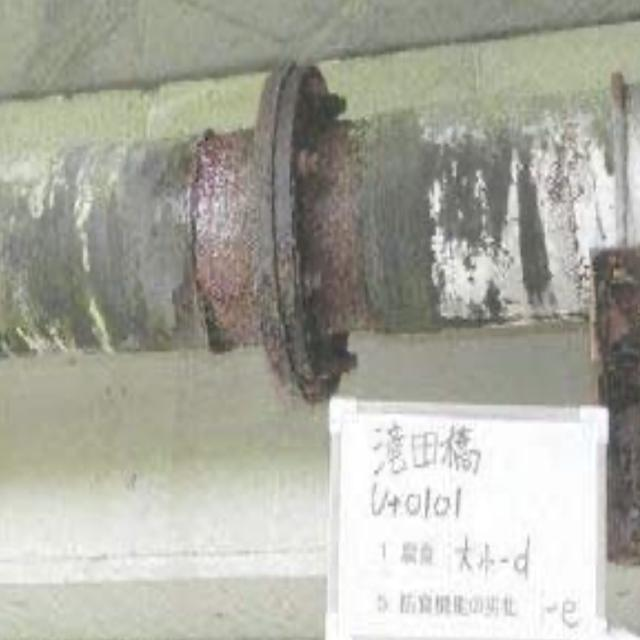corrosion: (182, 67, 392, 404)
